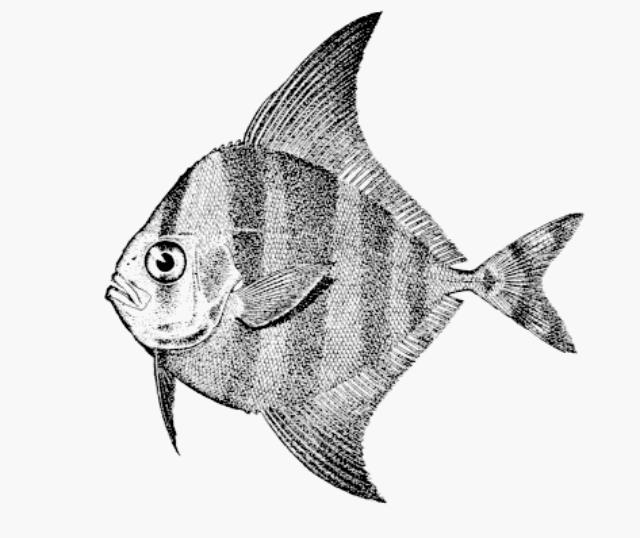Mulut: (87, 253, 153, 335)
Sirip Anal: (344, 287, 460, 407)
Sirip Dada: (215, 248, 355, 348)
Sirip Ekor: (472, 203, 600, 365)
Sirip Perut: (254, 396, 416, 514)
Sirip Punggung: (235, 6, 470, 268)
